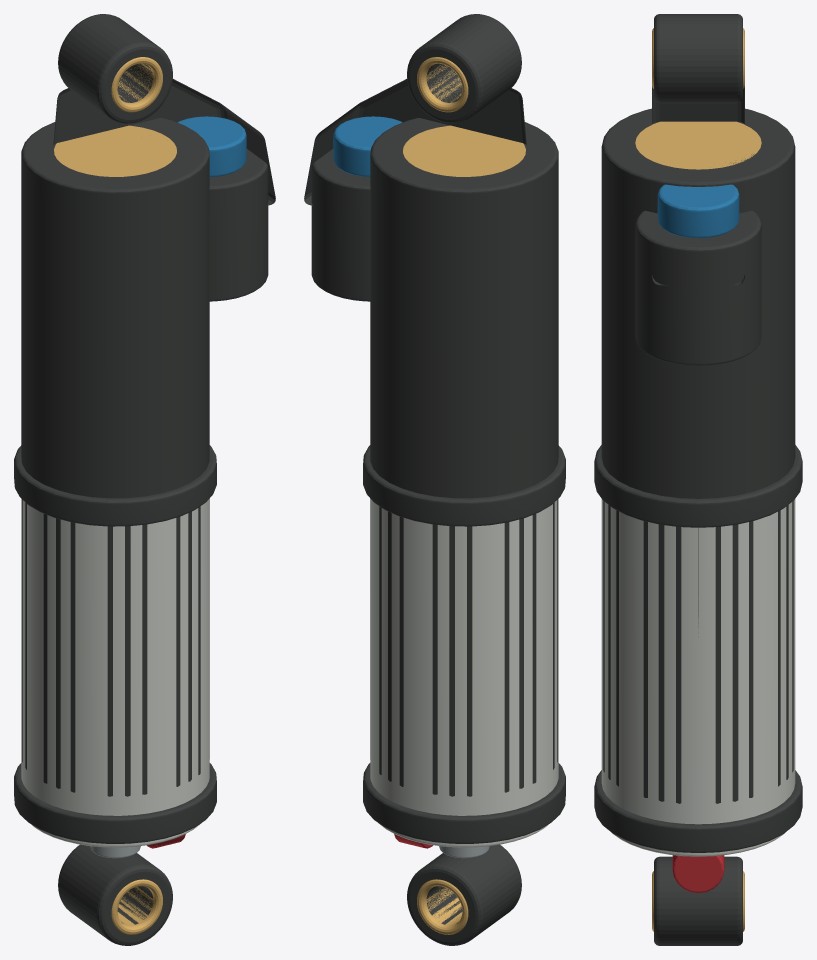
Rendered from fox-float-x2-factory-my26--39836ba0.glb.
3 views of the same model, side by side, from view 1: azimuth 30°, elevation 25°; view 2: azimuth 150°, elevation 25°; view 3: azimuth 270°, elevation 25° (orthographic). The views are drawn at different scales.
Visible parts, largest first — view 1: fox-float-x2-factory-my26--39836ba0__link, fox-float-x2-factory-my26--39836ba0__frame, fox-float-x2-factory-my26--39836ba0__stanchions, fox-float-x2-factory-my26--39836ba0__adjuster; view 2: fox-float-x2-factory-my26--39836ba0__link, fox-float-x2-factory-my26--39836ba0__frame, fox-float-x2-factory-my26--39836ba0__stanchions, fox-float-x2-factory-my26--39836ba0__adjuster; view 3: fox-float-x2-factory-my26--39836ba0__link, fox-float-x2-factory-my26--39836ba0__frame, fox-float-x2-factory-my26--39836ba0__stanchions, fox-float-x2-factory-my26--39836ba0__adjuster, fox-float-x2-factory-my26--39836ba0__rebound.
Part boxes in pixels (bbox=[...]): fox-float-x2-factory-my26--39836ba0__link: bbox=[14, 14, 275, 945]; fox-float-x2-factory-my26--39836ba0__frame: bbox=[21, 499, 209, 847]; fox-float-x2-factory-my26--39836ba0__stanchions: bbox=[54, 57, 176, 934]; fox-float-x2-factory-my26--39836ba0__adjuster: bbox=[177, 116, 246, 176]; fox-float-x2-factory-my26--39836ba0__link: bbox=[304, 14, 565, 945]; fox-float-x2-factory-my26--39836ba0__frame: bbox=[370, 499, 558, 847]; fox-float-x2-factory-my26--39836ba0__stanchions: bbox=[403, 57, 525, 934]; fox-float-x2-factory-my26--39836ba0__adjuster: bbox=[333, 116, 402, 176]; fox-float-x2-factory-my26--39836ba0__link: bbox=[594, 14, 802, 945]; fox-float-x2-factory-my26--39836ba0__frame: bbox=[601, 499, 795, 856]; fox-float-x2-factory-my26--39836ba0__stanchions: bbox=[635, 28, 761, 931]; fox-float-x2-factory-my26--39836ba0__adjuster: bbox=[657, 184, 739, 238]; fox-float-x2-factory-my26--39836ba0__rebound: bbox=[672, 855, 724, 893].
Bounding box in the file's own units: 0.074 × 0.274 × 0.056.
